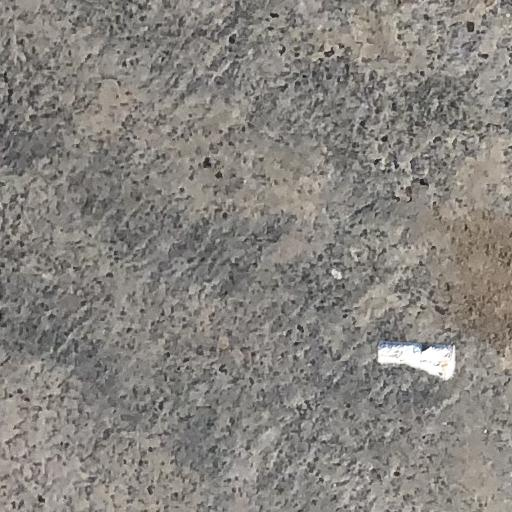smoke: (378, 341, 455, 380)
